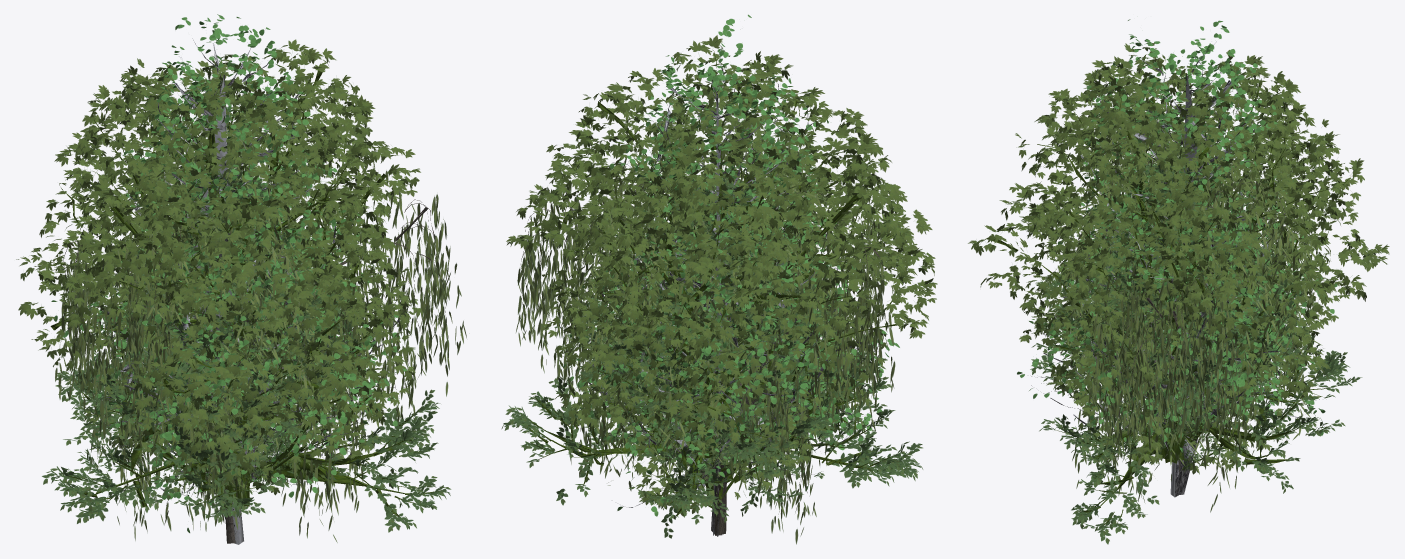
The model's file is vegetation_02.glb.
3 views of the same model, side by side, from view 1: azimuth 30°, elevation 25°; view 2: azimuth 150°, elevation 25°; view 3: azimuth 270°, elevation 25° (orthographic). The views are drawn at different scales.
Parts seen in each view (by area): view 1: prototype_021, prototype_022, prototype_023, prototype_016, prototype_018, prototype_020, prototype_017; view 2: prototype_021, prototype_022, prototype_023, prototype_016, prototype_018, prototype_020, prototype_017, prototype_019; view 3: prototype_021, prototype_022, prototype_023, prototype_016, prototype_018, prototype_020, prototype_017.
Part boxes in pixels (box(x1,y1,x2,y2)): prototype_021: box(16, 39, 420, 506); prototype_022: box(75, 68, 423, 506); prototype_023: box(55, 124, 466, 543); prototype_016: box(42, 167, 451, 532); prototype_018: box(107, 14, 376, 519); prototype_020: box(51, 163, 406, 544); prototype_017: box(164, 336, 300, 496); prototype_021: box(506, 35, 937, 516); prototype_022: box(571, 90, 874, 503); prototype_023: box(516, 136, 895, 544); prototype_016: box(501, 174, 922, 538); prototype_018: box(581, 14, 836, 535); prototype_020: box(554, 172, 899, 536); prototype_017: box(637, 349, 776, 535); prototype_019: box(667, 382, 770, 482); prototype_021: box(968, 43, 1389, 474); prototype_022: box(1017, 65, 1330, 456); prototype_023: box(1057, 130, 1329, 512); prototype_016: box(1030, 154, 1362, 544); prototype_018: box(1040, 19, 1305, 494); prototype_020: box(1017, 149, 1337, 497); prototype_017: box(1115, 308, 1243, 470).
Size of the model in its own units: 18.71 by 22.49 by 18.16.
12 materials, 12 textured.
